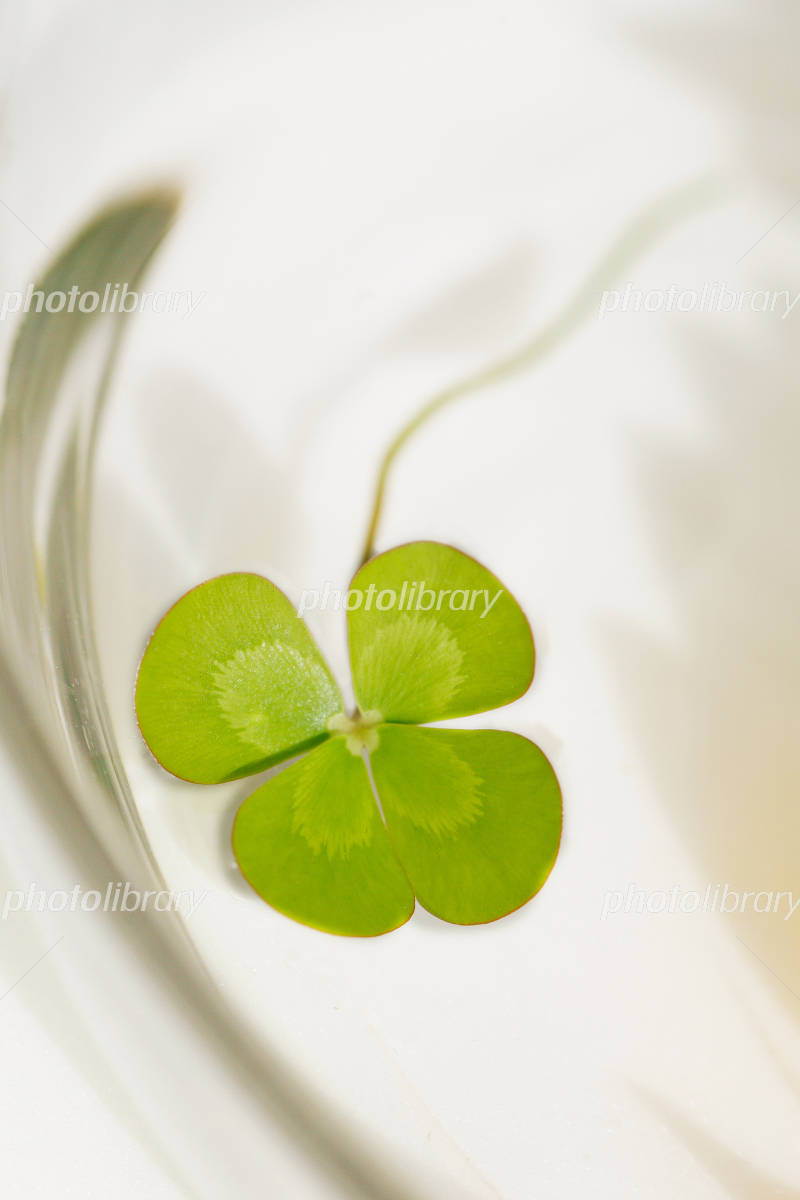daikon: (89, 483, 644, 975)
